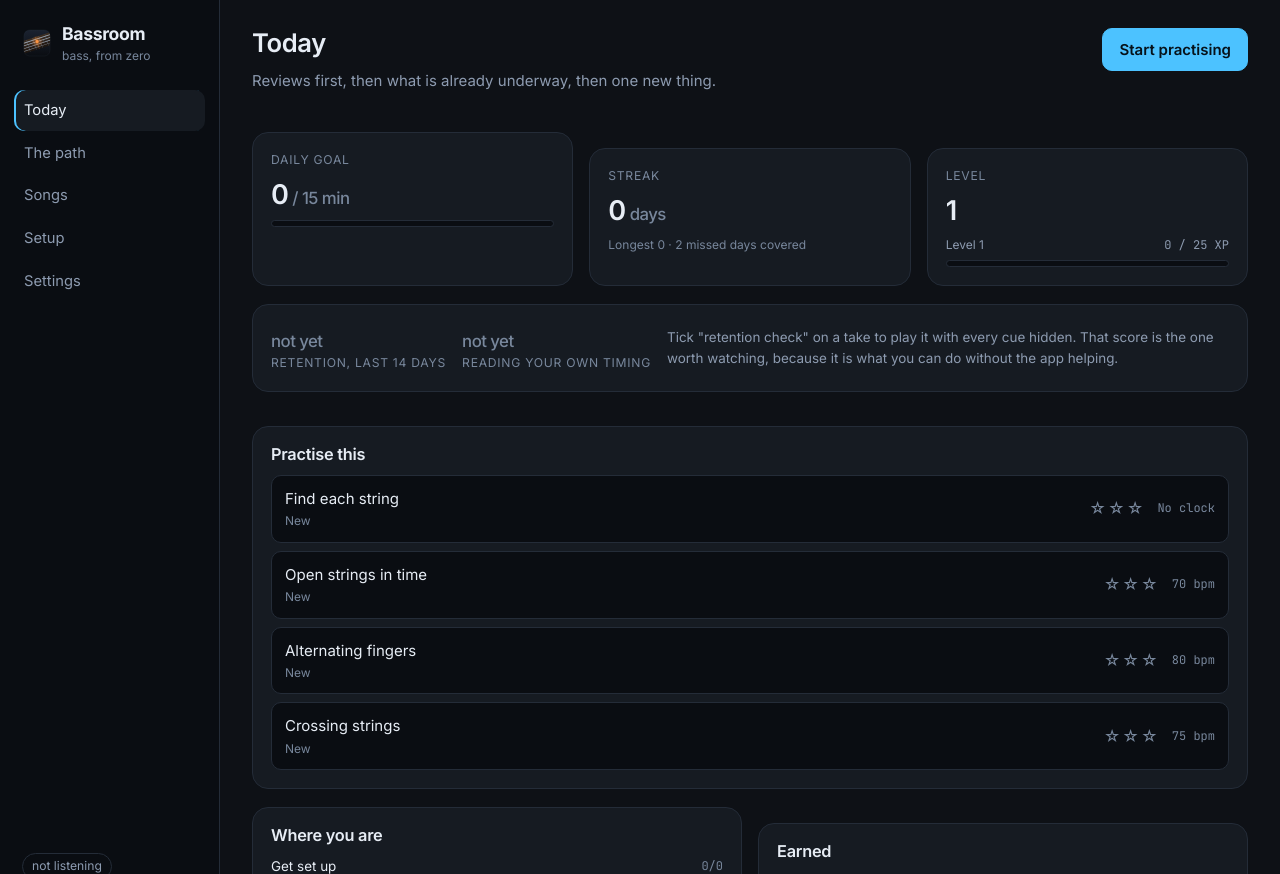
Test: navigation › opens Setup without crashing
The image size is (1280, 874).
Click the button "Setup" at (110, 239), box [14,218,205,259]
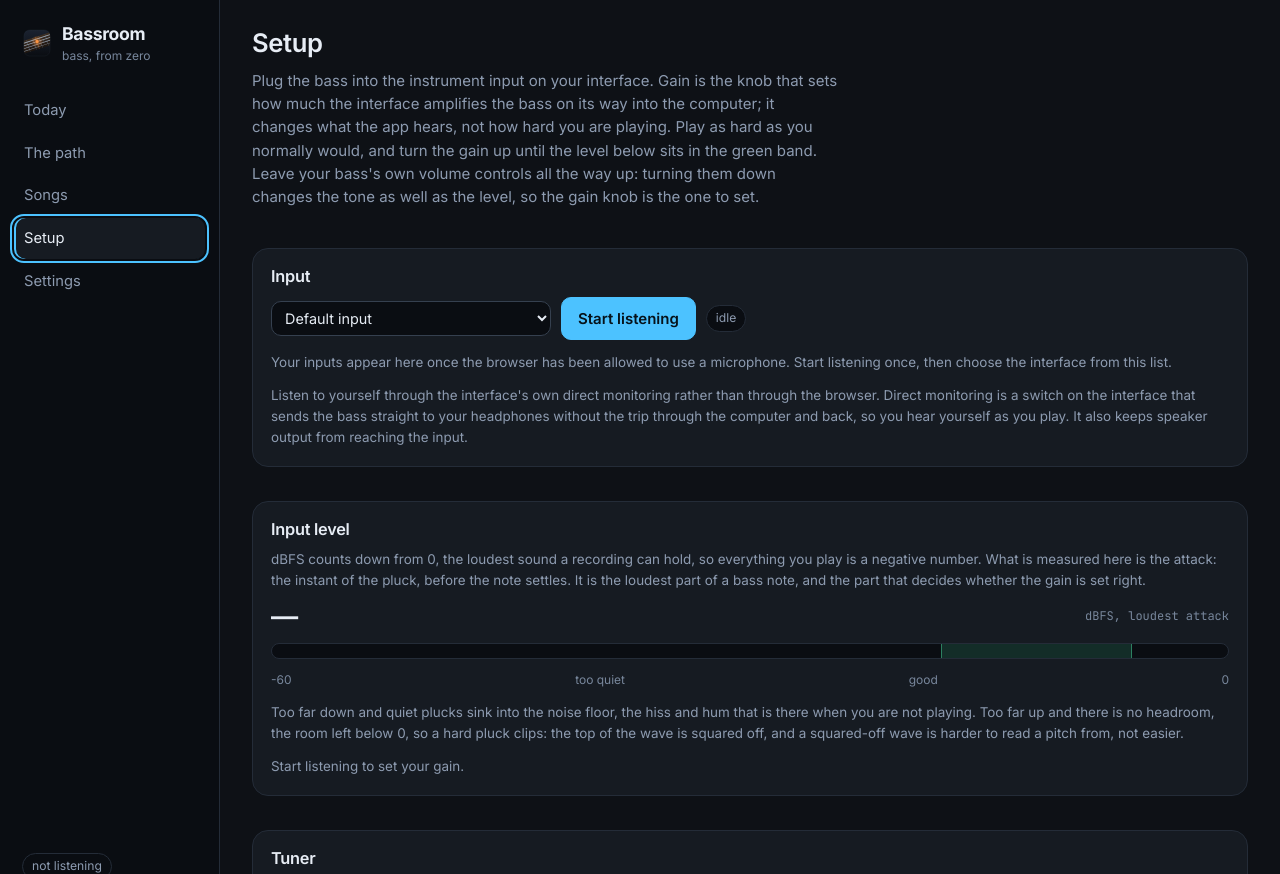
Expected: the heading "Setup" is shown, [252,27,322,58]
